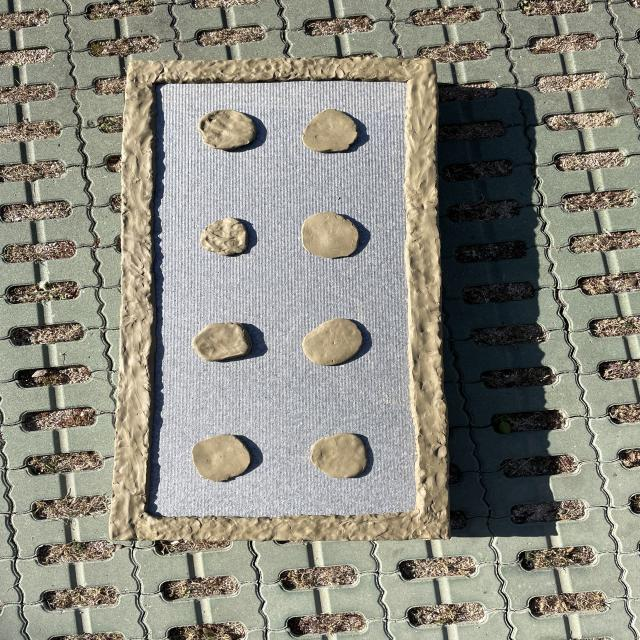dab: (302, 318, 363, 366), (192, 435, 251, 482), (301, 213, 359, 260), (310, 434, 367, 479), (191, 322, 252, 363), (303, 110, 358, 154), (199, 109, 254, 151), (200, 218, 247, 257)
ribbon: (110, 58, 448, 540), (148, 81, 415, 518)
